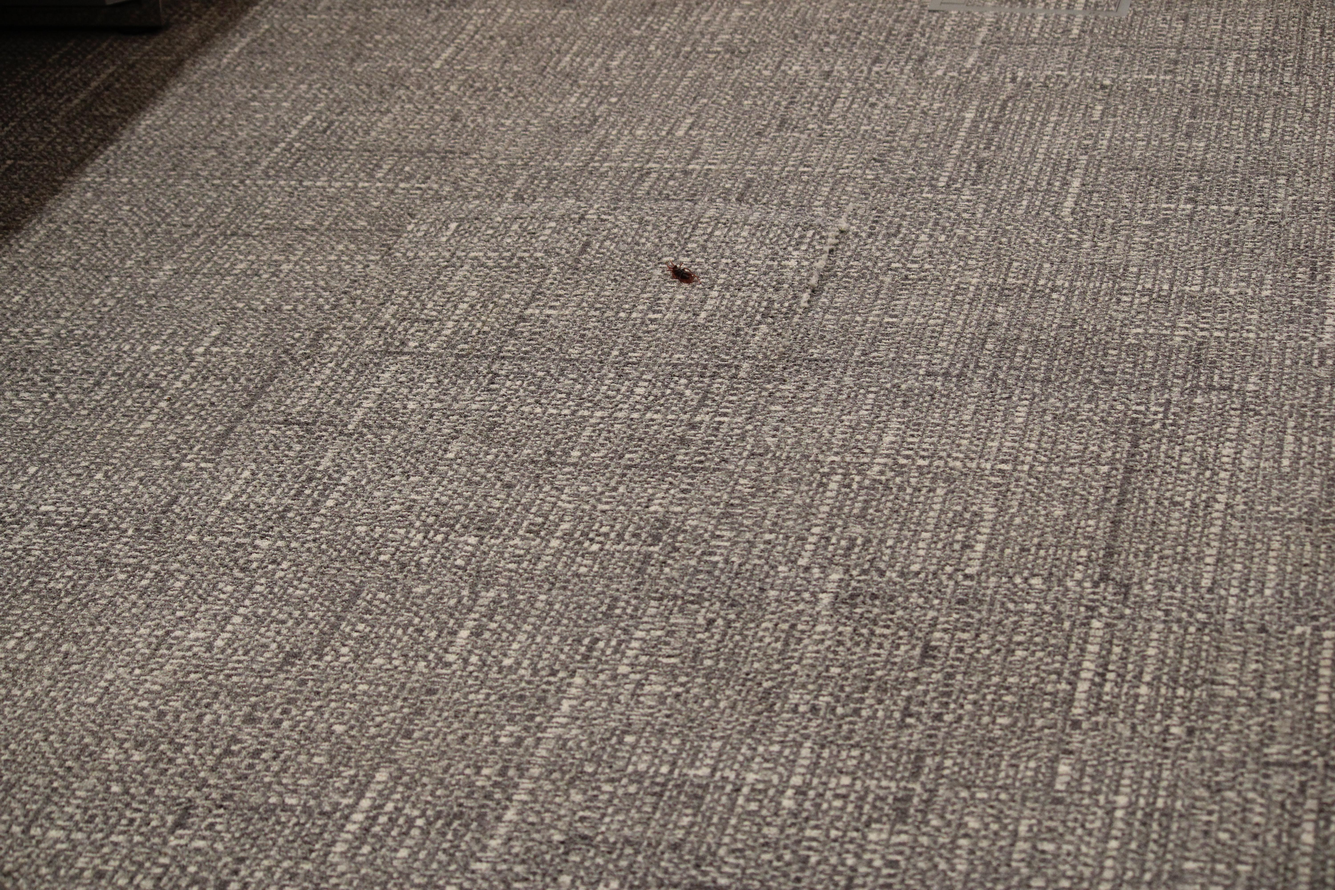cockroach: (657, 250, 712, 292)
